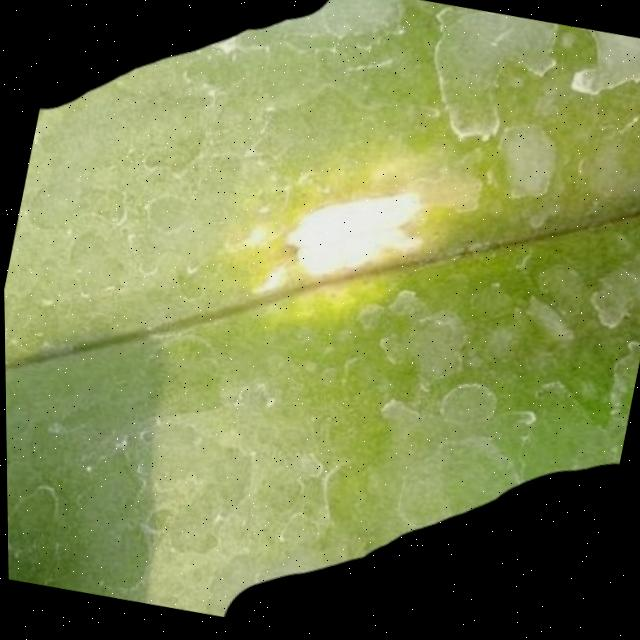mite: (216, 397, 619, 632), (4, 309, 194, 604), (39, 0, 334, 157), (333, 282, 521, 444), (5, 404, 138, 597), (6, 474, 70, 587), (485, 118, 564, 209), (397, 305, 472, 390), (578, 246, 640, 340), (431, 377, 500, 436)
